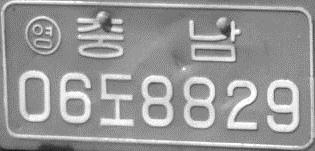0: (17, 70, 51, 122)
2: (224, 79, 258, 131)
6: (58, 71, 92, 124)
8: (140, 74, 174, 127), (182, 76, 215, 129)
9: (265, 78, 300, 133)
도: (98, 72, 134, 127)
영: (22, 14, 62, 57)
충남_D: (74, 16, 240, 63)
